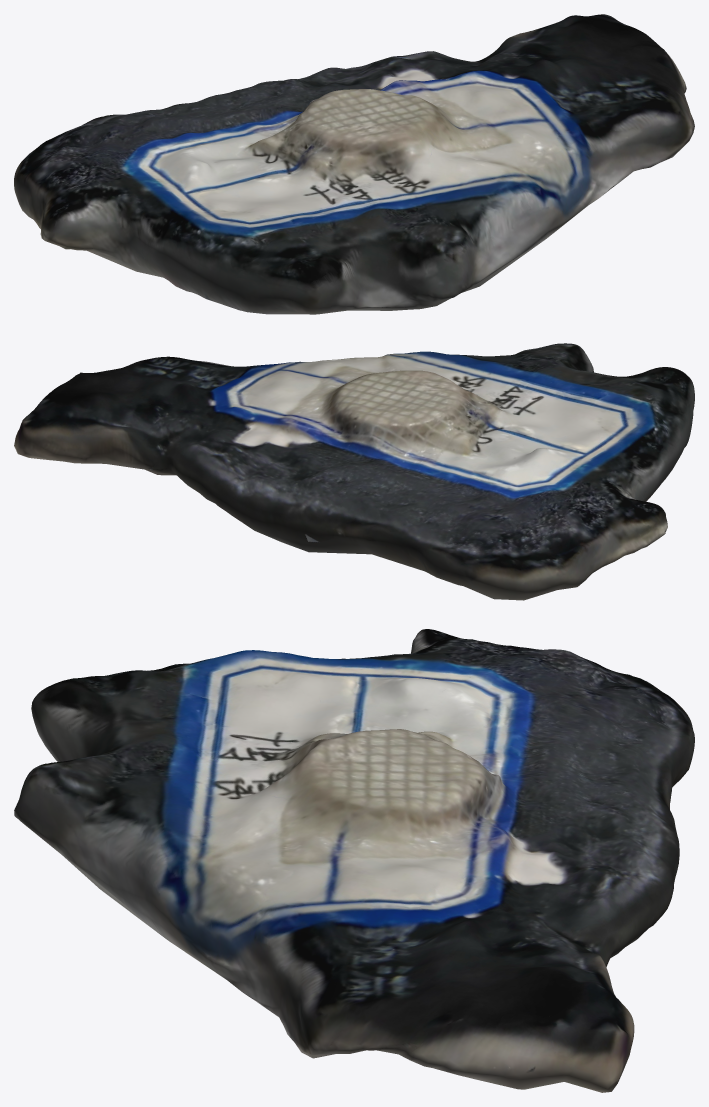
The picture shows the model from 3 angles, top to bottom: view 1: azimuth 30°, elevation 25°; view 2: azimuth 150°, elevation 25°; view 3: azimuth 270°, elevation 25°; orthographic projection. The views are drawn at different scales.
Bounding box in the file's own units: 0.6656 × 0.1103 × 0.4572.
Materials: 1 (1 with a texture image).
